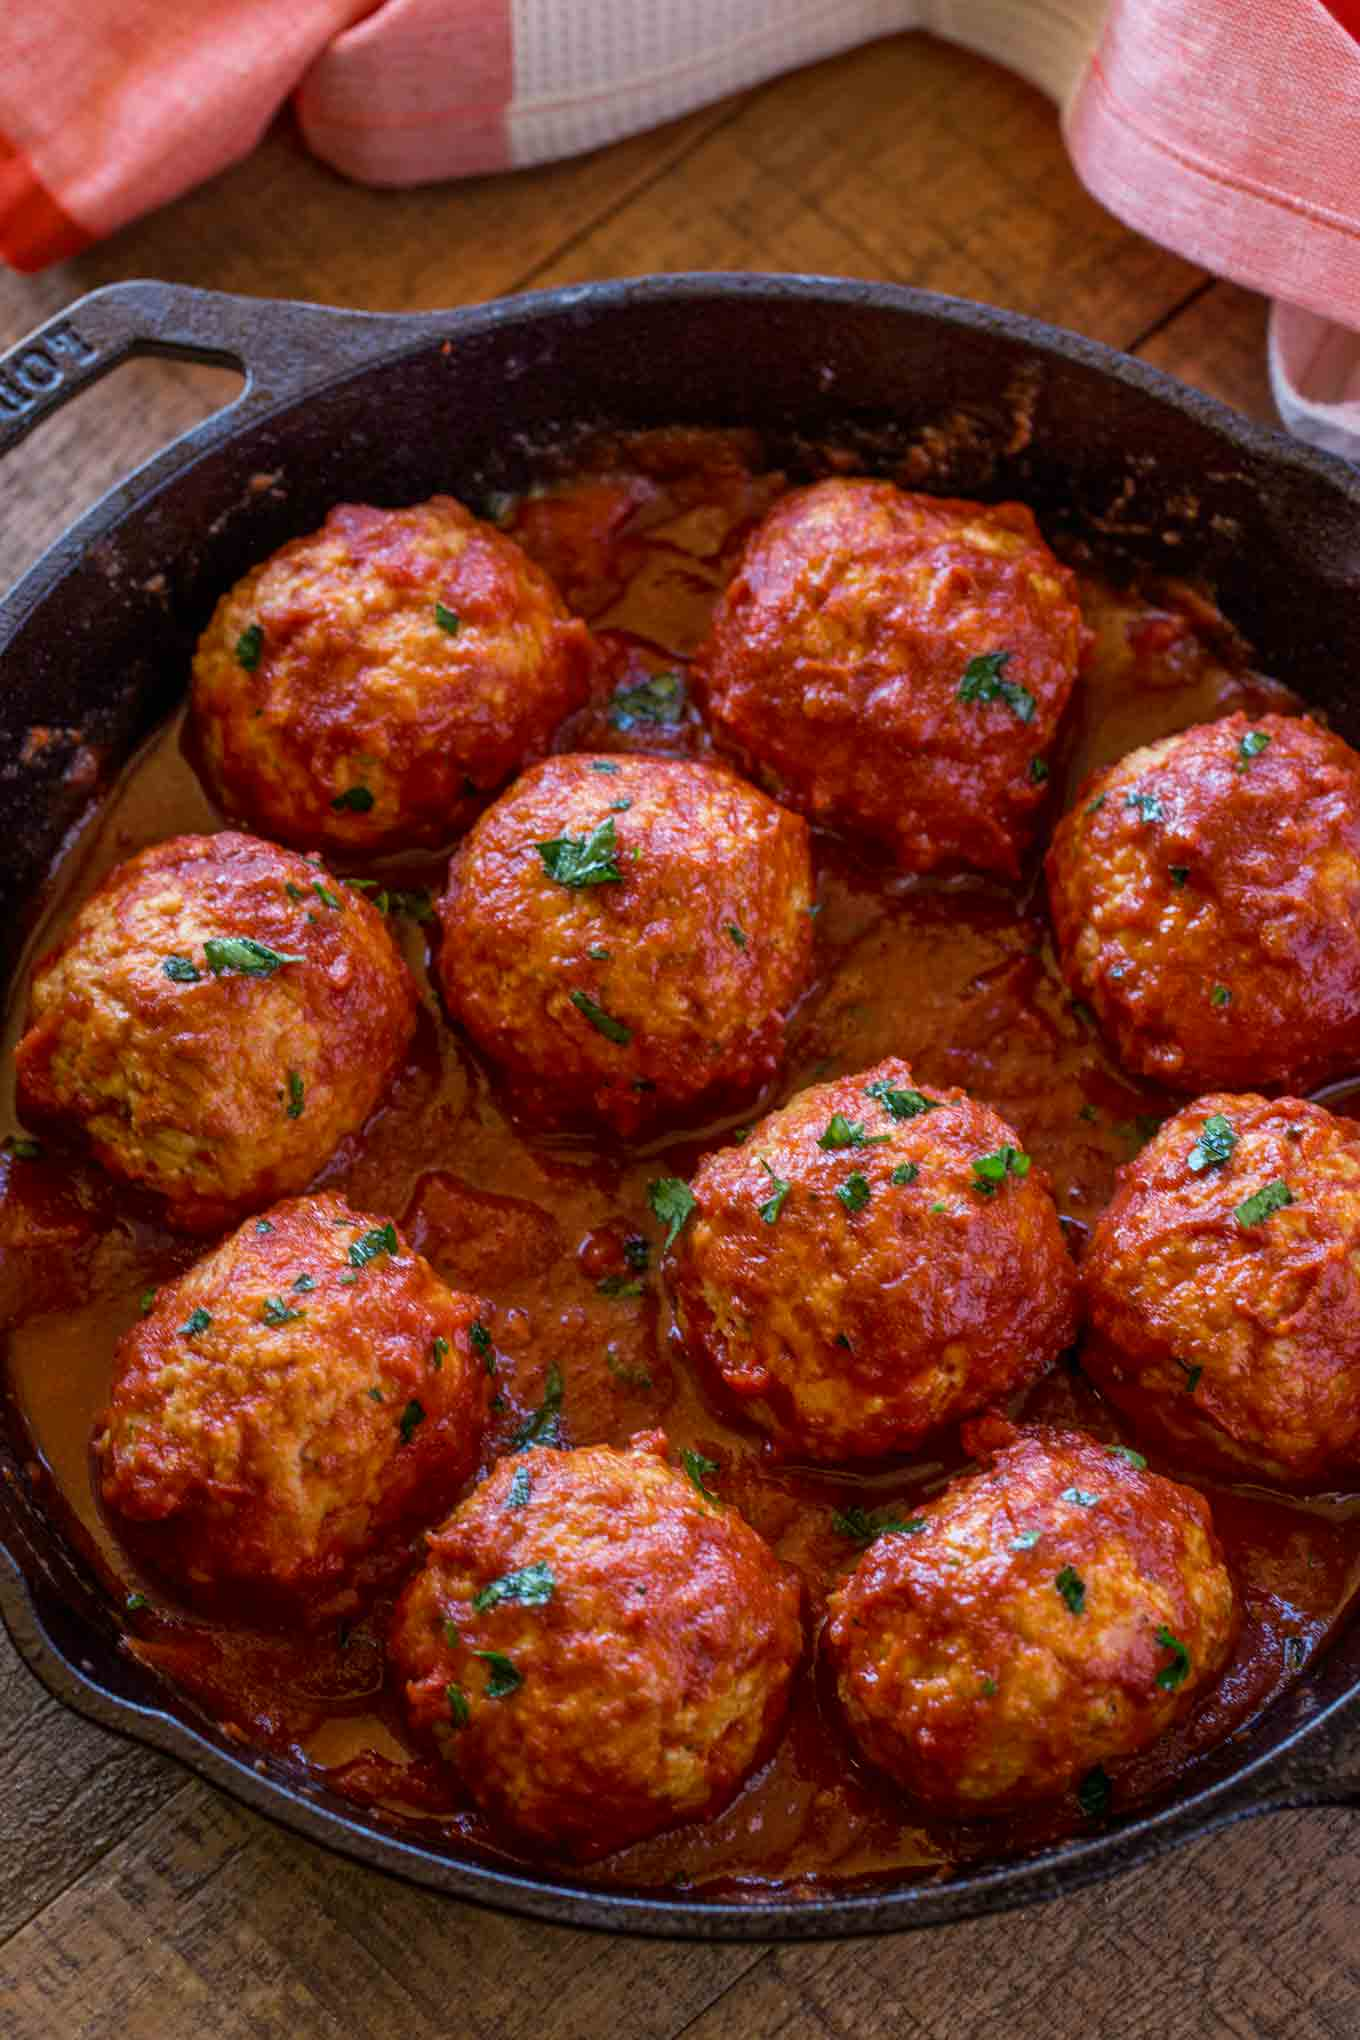meatballs: (155, 606, 1280, 1674)
